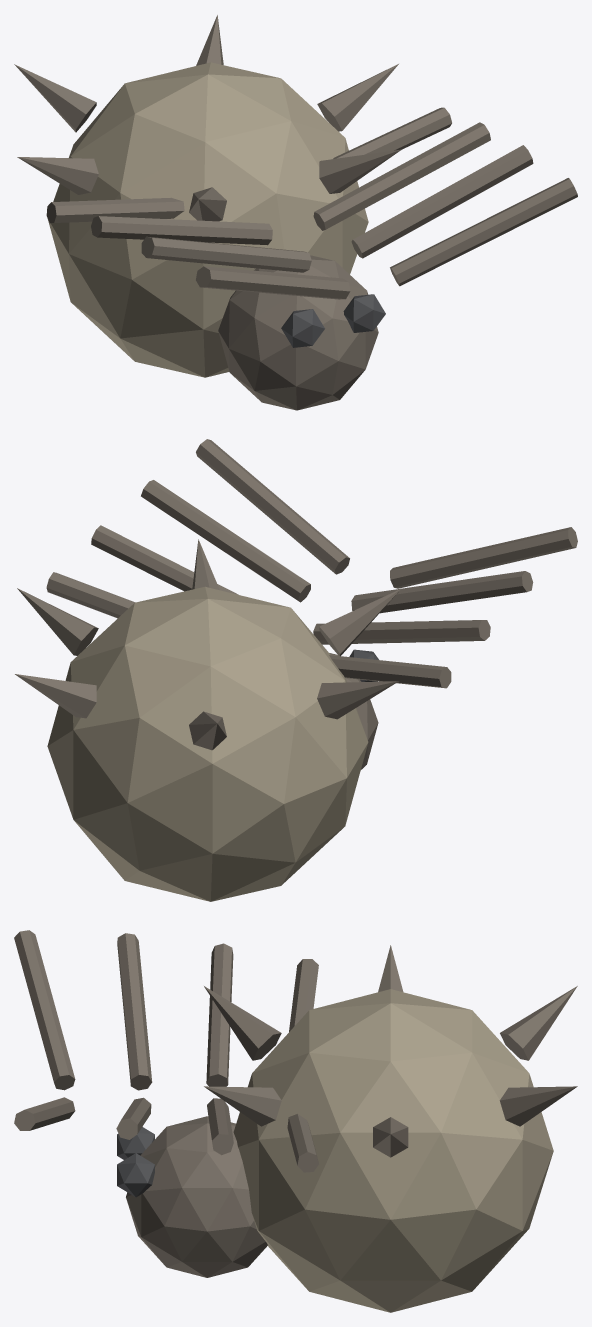
Rendered from thelacantha-brevispina.glb.
3 views of the same model, one above another, from view 1: azimuth 30°, elevation 25°; view 2: azimuth 150°, elevation 25°; view 3: azimuth 270°, elevation 25° (orthographic).
Parts seen in each view (by area): view 1: abdomen, cephalothorax, leg01, leg11, leg21, leg2-1, leg1-1, leg0-1, leg3-1, leg31, spike3, spike0 (+6 smaller); view 2: abdomen, leg0-1, leg11, leg01, leg1-1, leg2-1, leg21, leg3-1, leg31, spike3, spike0, spike2 (+4 smaller); view 3: abdomen, cephalothorax, leg0-1, leg1-1, leg2-1, spike2, spike4, spike1, spike5, leg3-1, leg01, eye1 (+6 smaller).
Boxes of the visible parts, left/top/right/bottom form: abdomen: left=47, top=62, right=368, bottom=377; cephalothorax: left=218, top=255, right=378, bottom=410; leg01: left=390, top=178, right=577, bottom=286; leg11: left=351, top=145, right=533, bottom=258; leg21: left=313, top=122, right=490, bottom=230; leg2-1: left=91, top=216, right=272, bottom=245; leg1-1: left=141, top=236, right=311, bottom=272; leg0-1: left=196, top=266, right=350, bottom=299; leg3-1: left=46, top=197, right=184, bottom=223; leg31: left=333, top=107, right=451, bottom=158; spike3: left=17, top=157, right=98, bottom=194; spike0: left=317, top=64, right=398, bottom=131; abdomen: left=47, top=586, right=368, bottom=901; leg0-1: left=390, top=527, right=577, bottom=588; leg11: left=141, top=480, right=310, bottom=602; leg01: left=196, top=439, right=349, bottom=574; leg1-1: left=351, top=571, right=533, bottom=613; leg2-1: left=313, top=620, right=490, bottom=644; leg21: left=91, top=525, right=238, bottom=594; leg3-1: left=329, top=655, right=451, bottom=688; leg31: left=46, top=572, right=135, bottom=618; spike3: left=317, top=681, right=398, bottom=719; spike0: left=17, top=588, right=98, bottom=655; spike2: left=319, top=588, right=401, bottom=656; abdomen: left=233, top=989, right=553, bottom=1312; cephalothorax: left=126, top=1116, right=267, bottom=1277; leg0-1: left=14, top=930, right=75, bottom=1090; leg1-1: left=117, top=933, right=152, bottom=1090; leg2-1: left=206, top=943, right=233, bottom=1086; spike2: left=204, top=986, right=281, bottom=1060; spike4: left=500, top=986, right=577, bottom=1060; spike1: left=204, top=1086, right=281, bottom=1126; spike5: left=499, top=1086, right=577, bottom=1126; leg3-1: left=289, top=959, right=318, bottom=1031; leg01: left=14, top=1097, right=75, bottom=1130; eye1: left=117, top=1153, right=154, bottom=1197.
Size of the model in its own units: 0.4572 by 0.32 by 0.5535.
